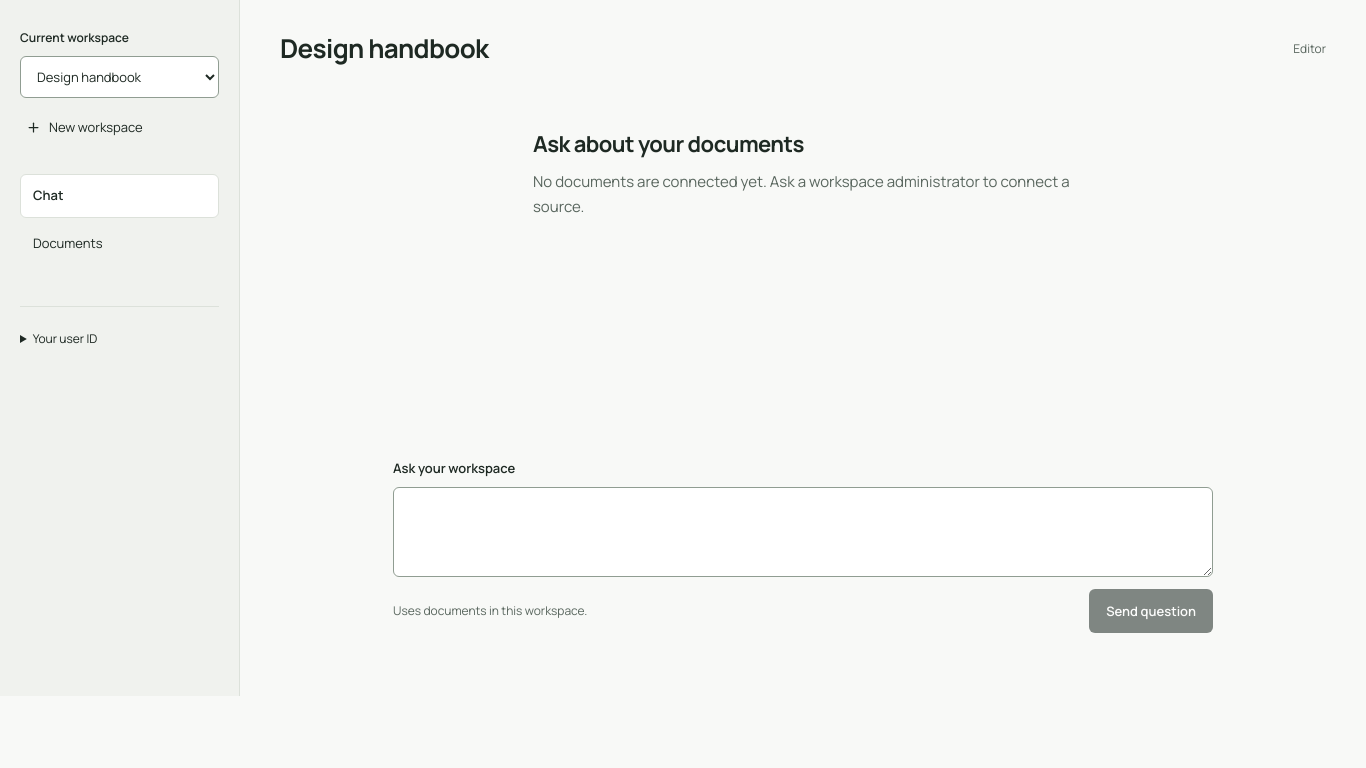
workspace interface › allows editors to refresh a source without managing members
This screenshot has width=1366, height=768.
Expected: the heading "Design handbook" is shown, 280,32 -> 488,66
Click the button "Documents".
click(120, 244)  # box 20,222 -> 219,266
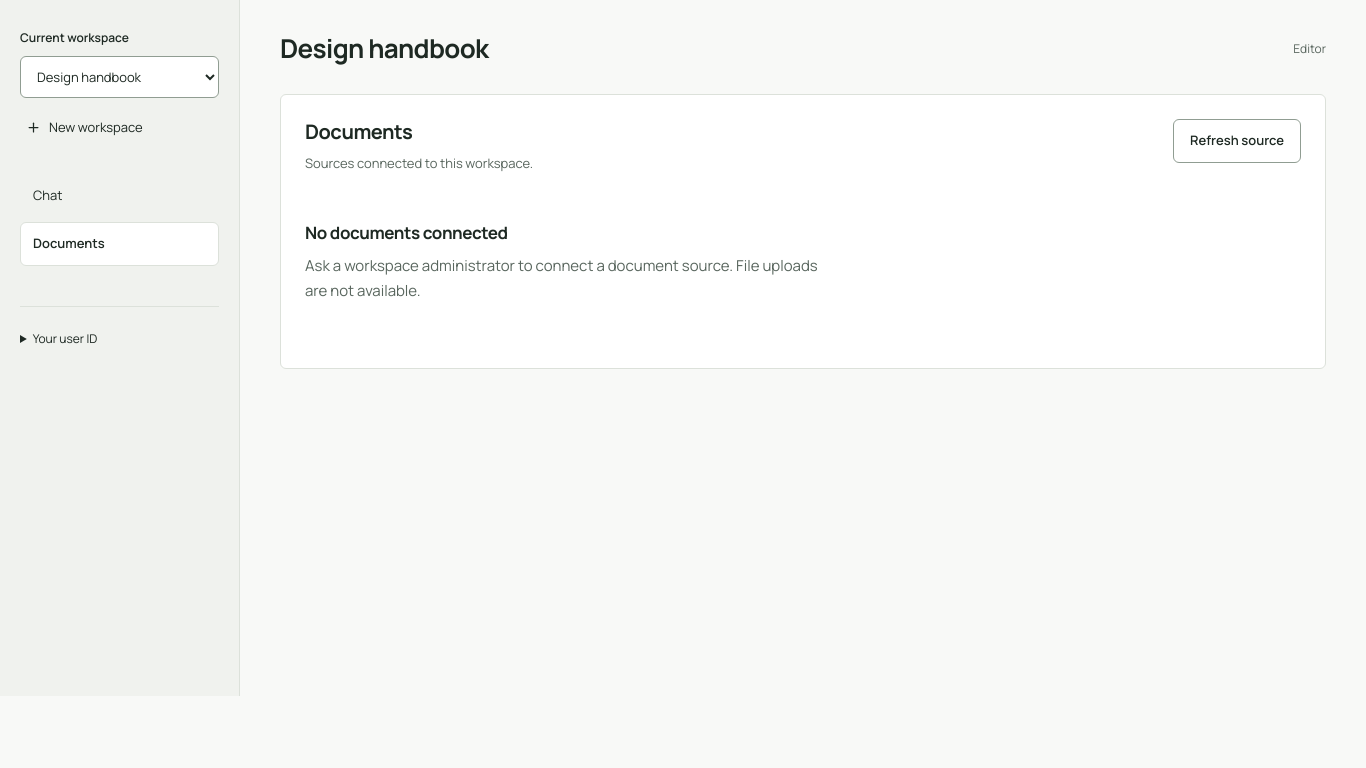
Expected: the button "Refresh source" is shown, 1173,119 -> 1301,163
